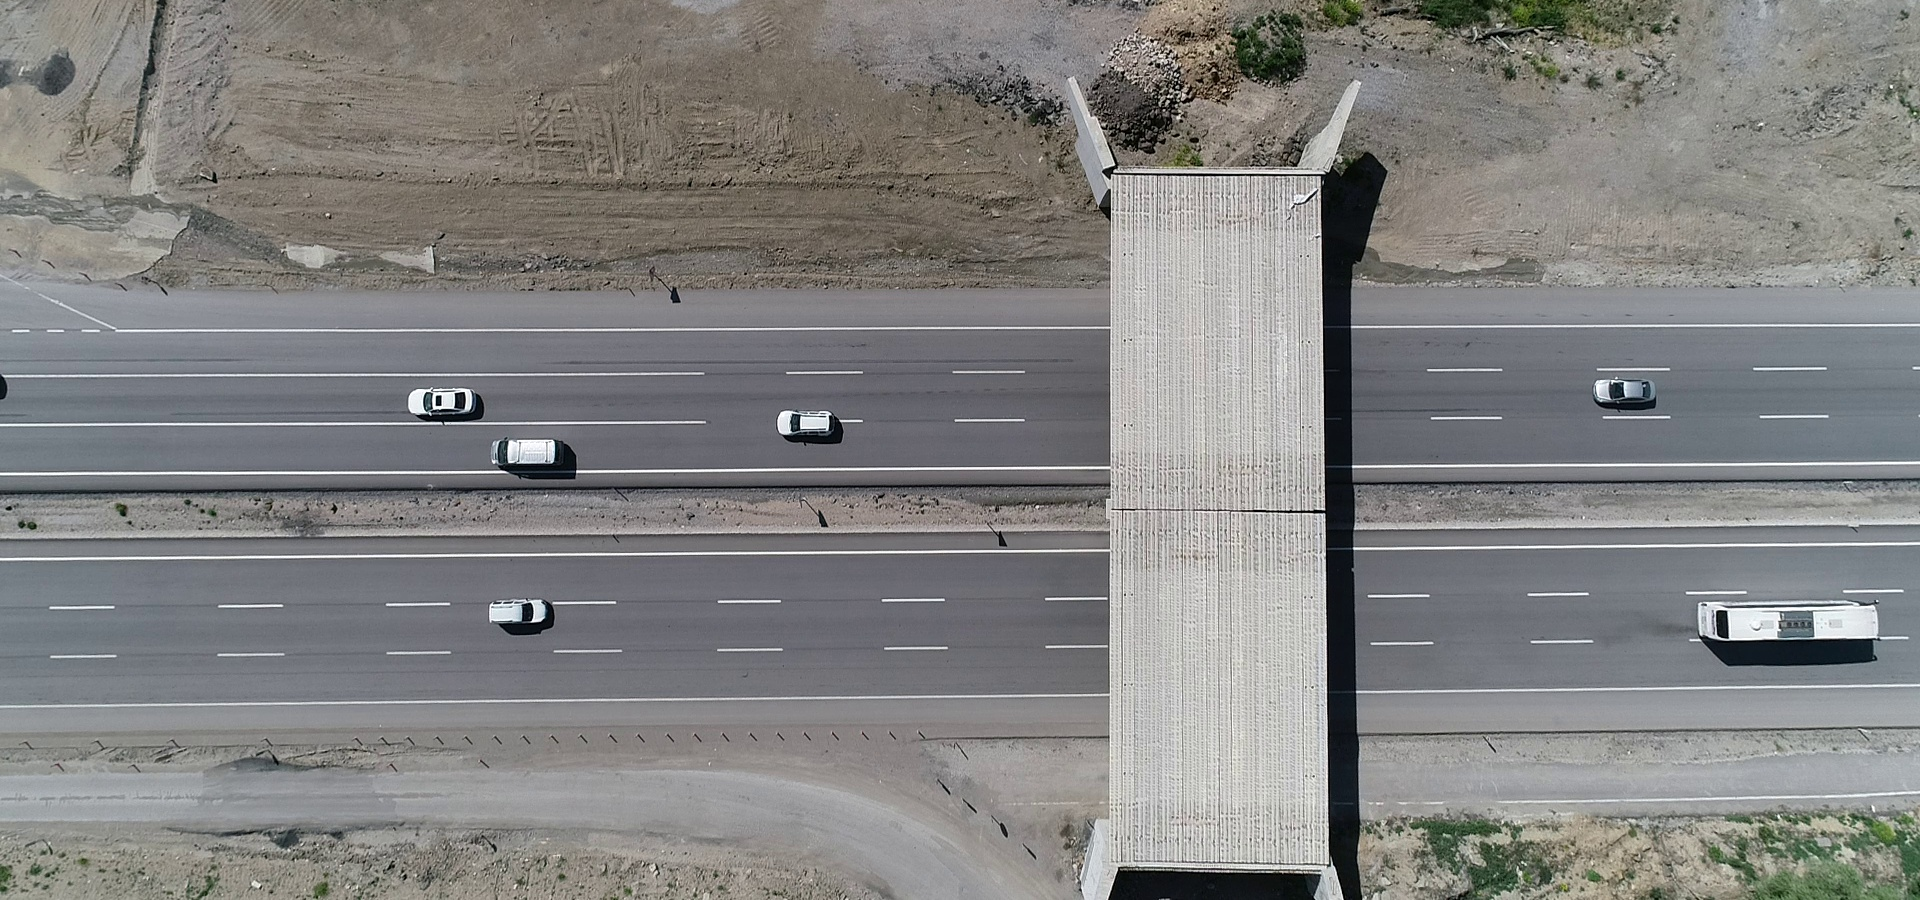araba: (493, 429, 573, 471), (398, 383, 482, 422), (773, 403, 850, 442), (1587, 371, 1664, 405), (484, 595, 560, 628)
otobus: (1689, 594, 1883, 644)
